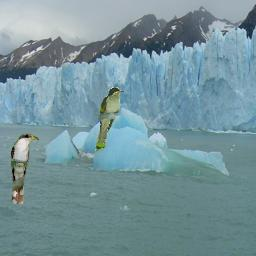Cuckoo: (10, 133, 39, 204), (95, 87, 125, 153)
